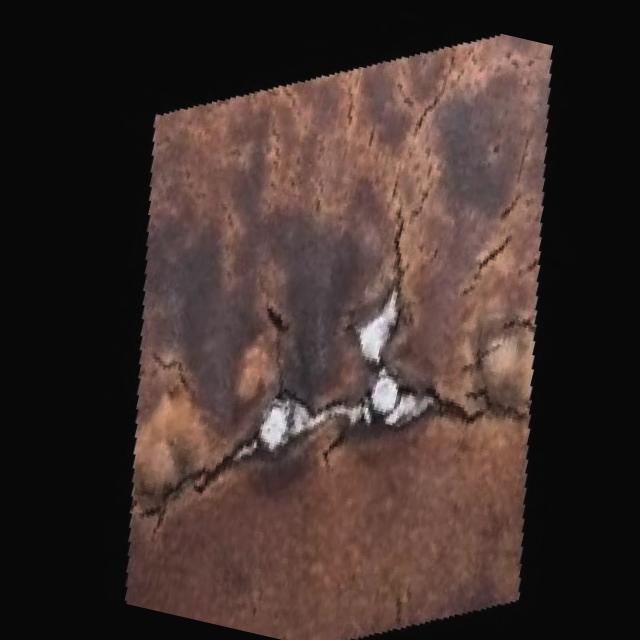crack: (145, 412, 244, 518), (248, 294, 333, 394), (375, 203, 433, 286)
